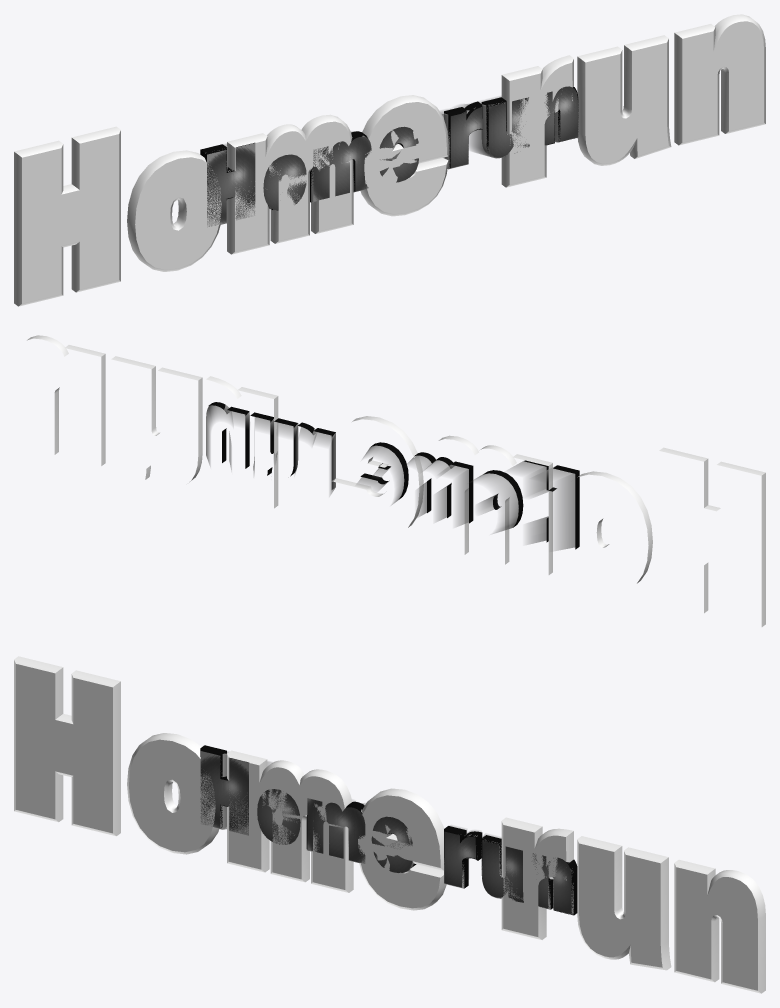
File: bbl_home_run0_model__home_run0.glb
3 views of the same model, one above another, from view 1: azimuth 30°, elevation 25°; view 2: azimuth 150°, elevation 25°; view 3: azimuth 330°, elevation 25° (orthographic).
Parts seen in each view (by area): view 1: polygon3, polygon1, polygon4, polygon2, polygon5; view 2: polygon5, polygon3, polygon2; view 3: polygon3, polygon1, polygon4, polygon2, polygon5.
Boxes of the visible parts, bbox=[...] form: polygon3: bbox=[14, 14, 765, 306]; polygon1: bbox=[207, 86, 577, 222]; polygon4: bbox=[207, 91, 577, 227]; polygon2: bbox=[200, 87, 578, 209]; polygon5: bbox=[205, 93, 578, 224]; polygon5: bbox=[206, 404, 575, 550]; polygon3: bbox=[27, 335, 765, 626]; polygon2: bbox=[208, 402, 579, 549]; polygon3: bbox=[14, 656, 765, 993]; polygon1: bbox=[200, 751, 571, 913]; polygon4: bbox=[200, 775, 571, 914]; polygon2: bbox=[200, 745, 577, 915]; polygon5: bbox=[214, 751, 573, 915].
Size of the model in its own units: 48.23 by 9.54 by 1.6.
Materials: 5 (3 with a texture image).
